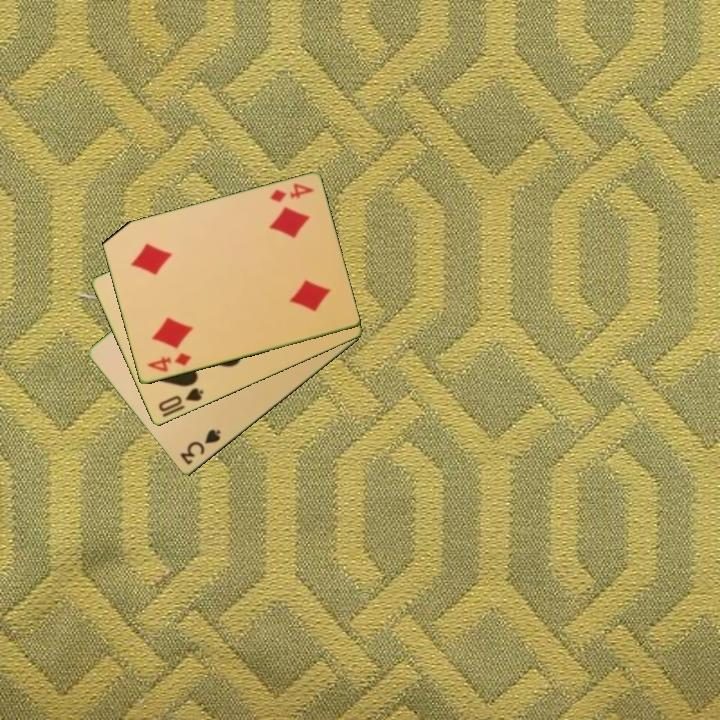10s: (155, 385, 206, 415)
3s: (176, 426, 224, 468)
4d: (143, 349, 194, 375), (266, 180, 316, 206)
